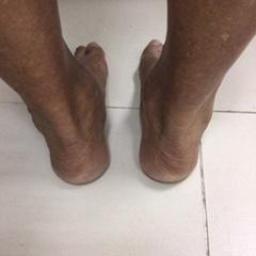Back View -Both Feet-: (10, 26, 234, 202)
